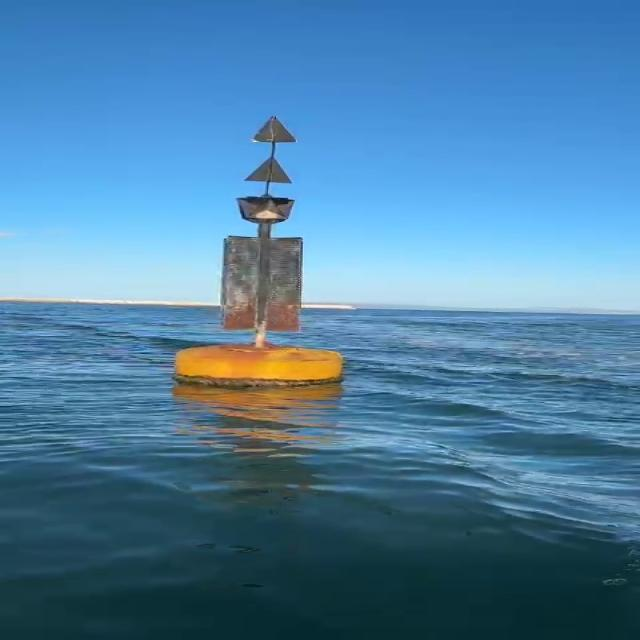marque: (170, 110, 342, 386)
